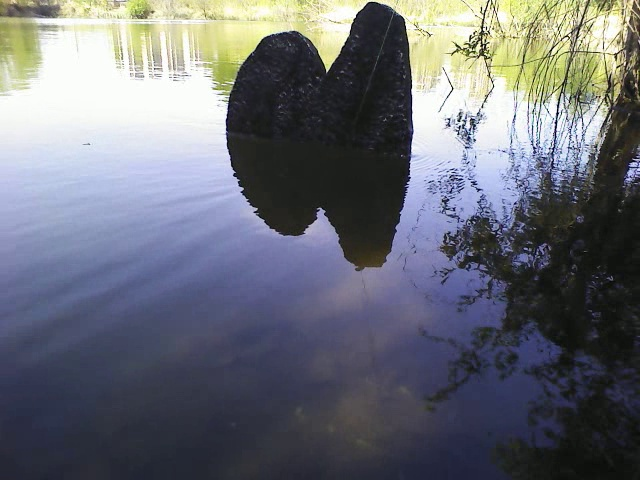rock: (225, 5, 419, 153)
